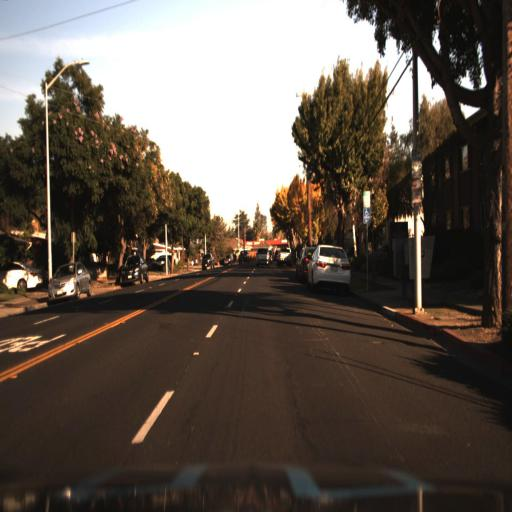car: (307, 240, 350, 294), (48, 259, 94, 304), (116, 253, 152, 291), (298, 240, 314, 286), (276, 239, 294, 271), (197, 249, 217, 271), (254, 243, 270, 269), (236, 249, 250, 270)
